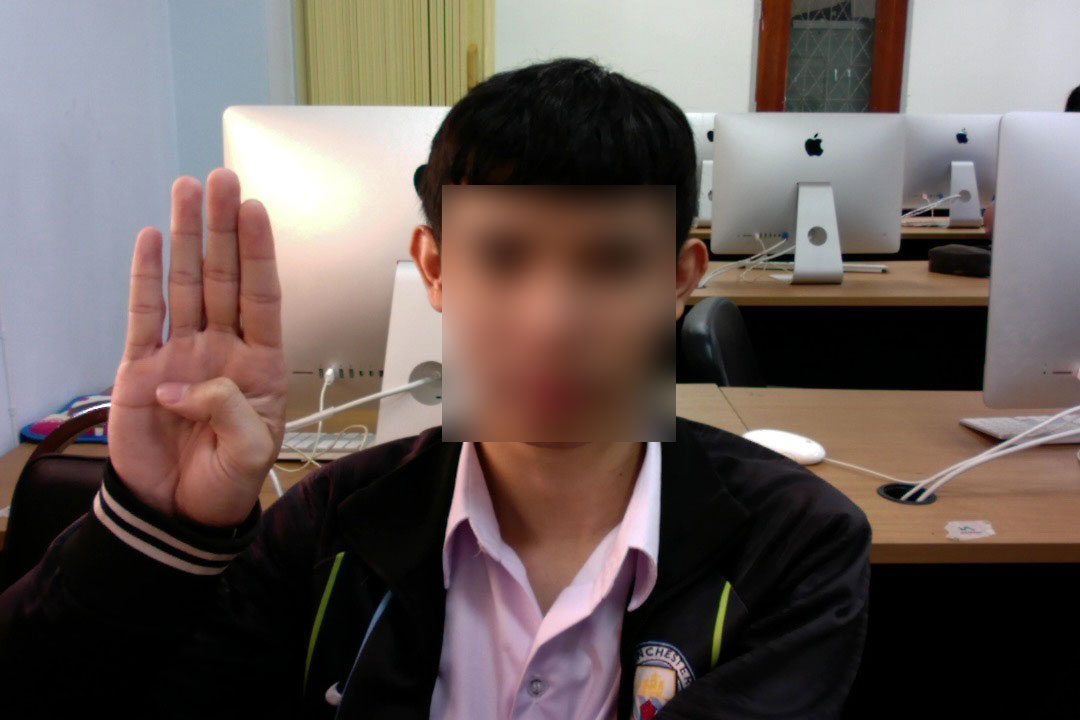bor: (96, 161, 288, 569)
